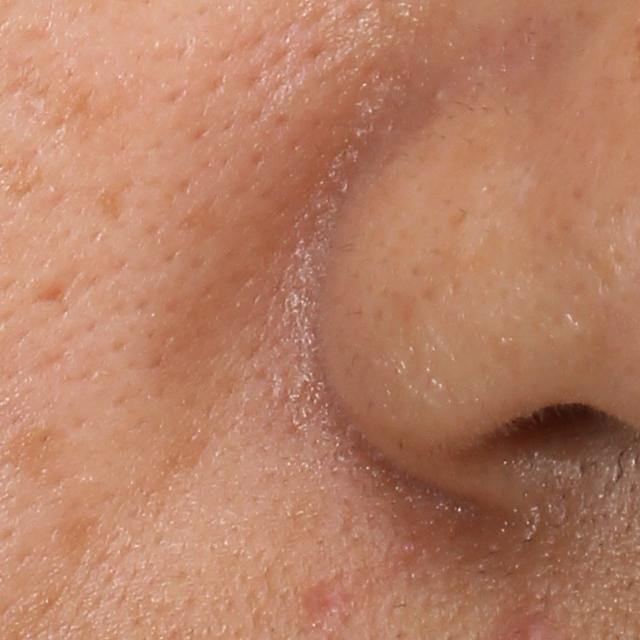atrophic_scar: (37, 277, 73, 307)
